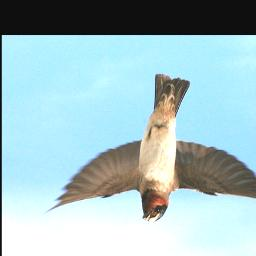Swallow: (41, 73, 256, 224)
